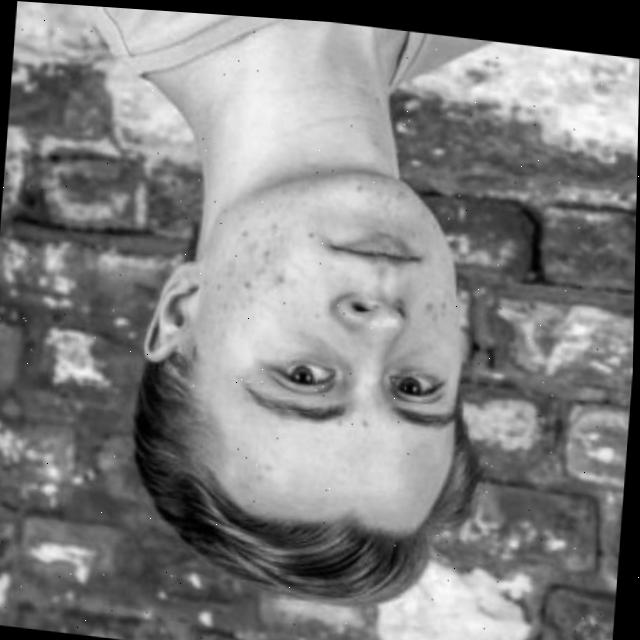Acne: (220, 195, 317, 320), (407, 282, 455, 341)
